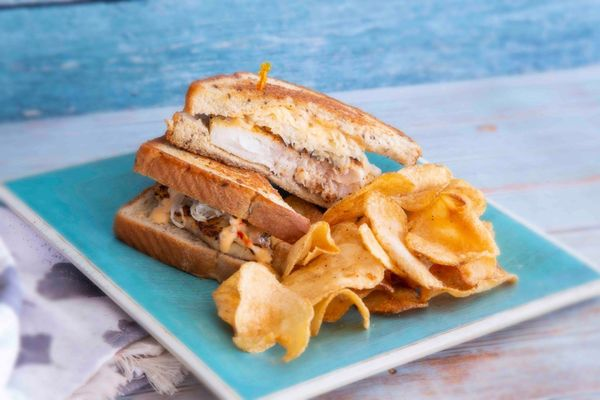soup: (113, 137, 315, 281)
